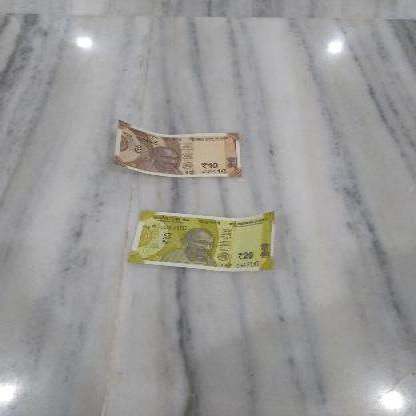New10Front: (116, 118, 243, 179)
New20Front: (128, 208, 277, 268)
